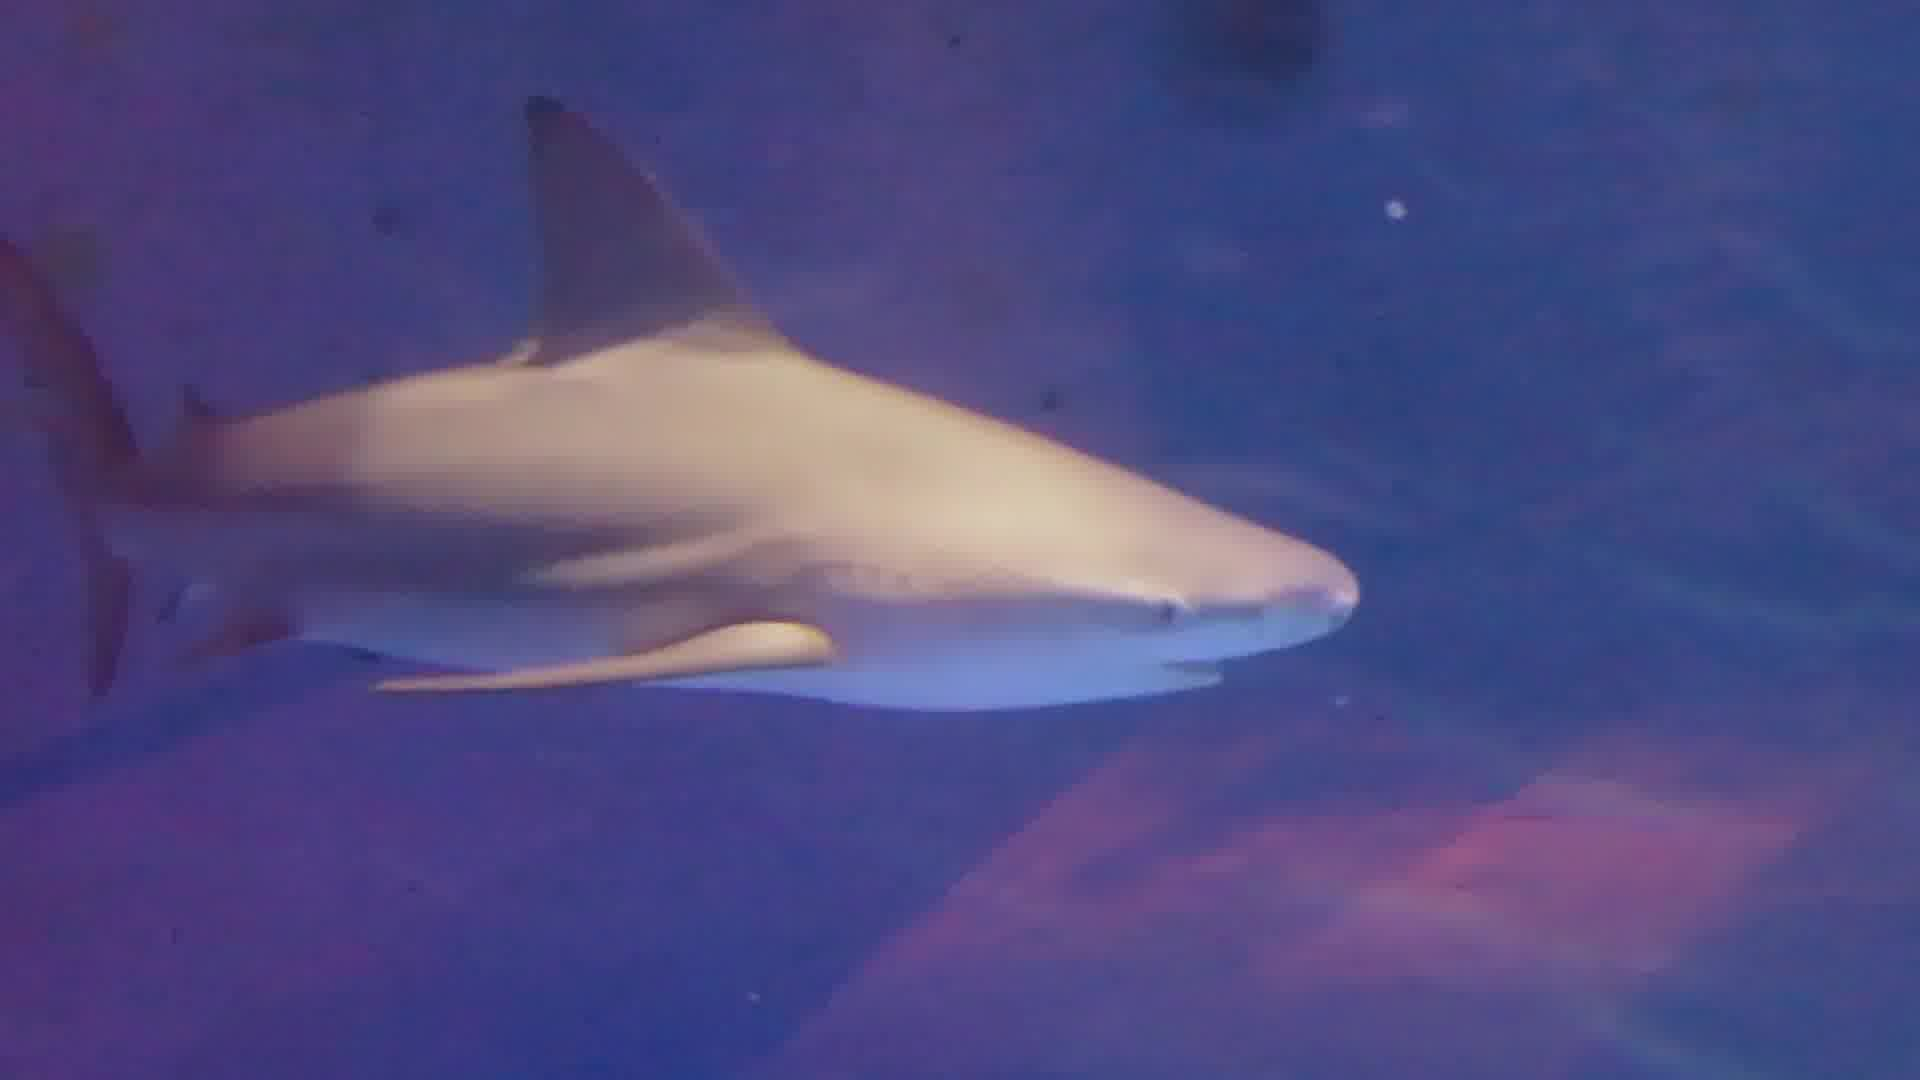Carcharhinus leucas: (11, 88, 1395, 798)
